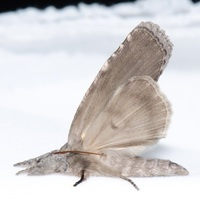insect: (14, 22, 187, 189)
